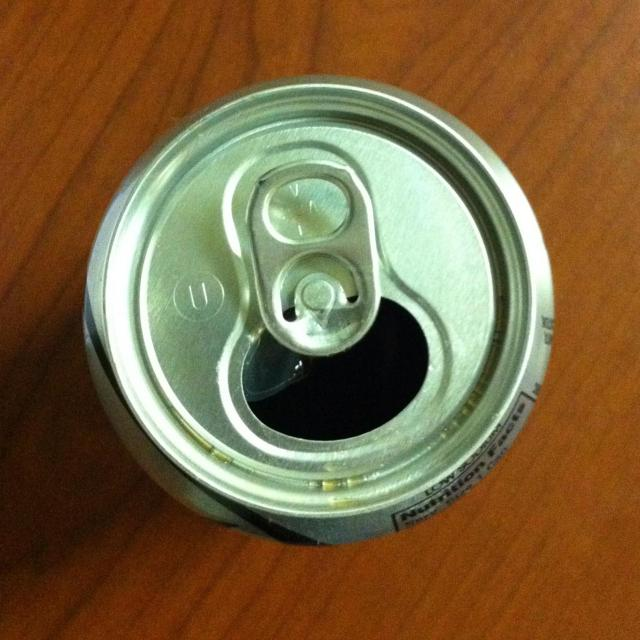can: (78, 76, 561, 542)
pop tab: (245, 154, 380, 358)
